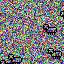sheep: (48, 47, 63, 61), (42, 23, 57, 36), (8, 54, 23, 64)
